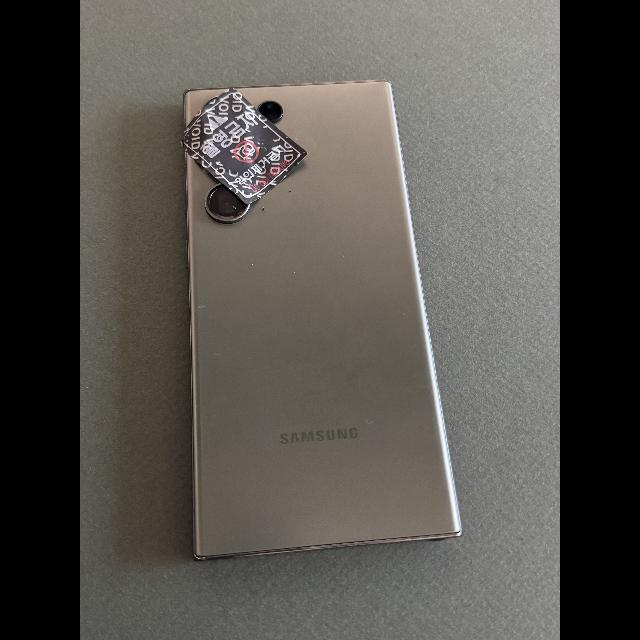lens: (205, 183, 249, 223), (258, 101, 283, 123)
phone: (181, 81, 461, 560)
sticker: (180, 87, 307, 204)
